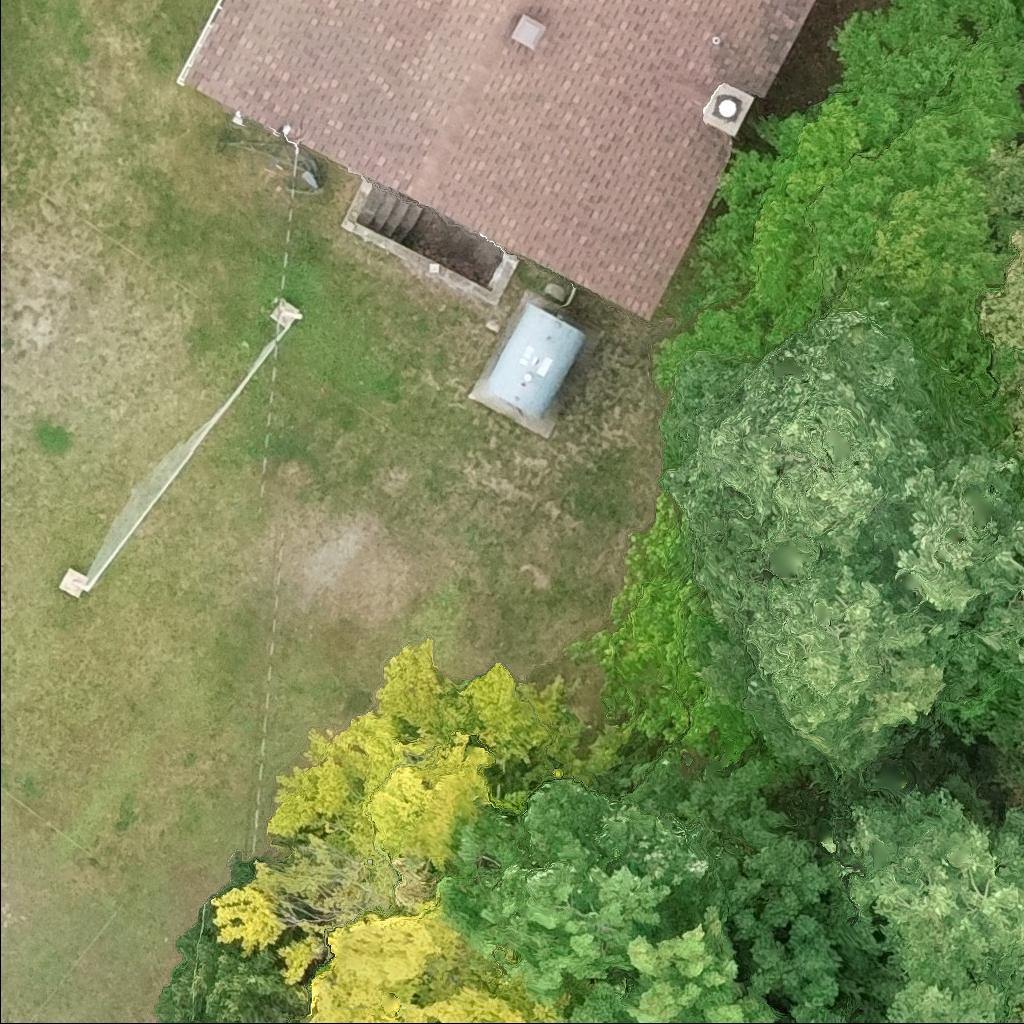crown: (648, 0, 1023, 450), (207, 636, 570, 980), (658, 308, 945, 631), (435, 780, 715, 1000), (633, 747, 845, 1023), (738, 541, 985, 773), (568, 493, 757, 768), (835, 776, 1023, 1003), (862, 440, 1023, 664), (295, 897, 579, 1023), (554, 899, 779, 1023), (977, 137, 1023, 490), (871, 975, 1012, 1023), (981, 695, 1023, 793)
